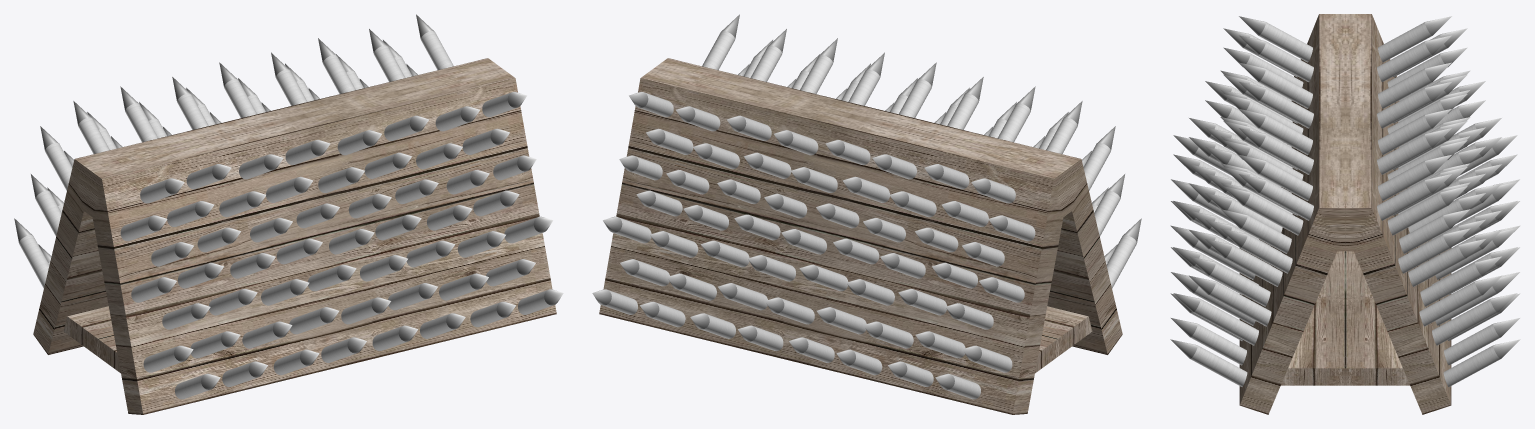
The model's file is SpikeSection.fbx.
The picture shows the model from 3 angles, left to right: view 1: azimuth 30°, elevation 25°; view 2: azimuth 150°, elevation 25°; view 3: azimuth 270°, elevation 25°; orthographic projection. The views are drawn at different scales.
Visible parts, largest first — view 1: pCube5; view 2: pCube5; view 3: pCube5.
Part boxes in pixels (x1,y1,x2,y2): pCube5: [14, 14, 563, 414]; pCube5: [592, 14, 1141, 414]; pCube5: [1170, 14, 1520, 414].
Bounding box in the file's own units: 15.75 × 8.6 × 12.04.
